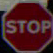Stop: (7, 4, 52, 47)
